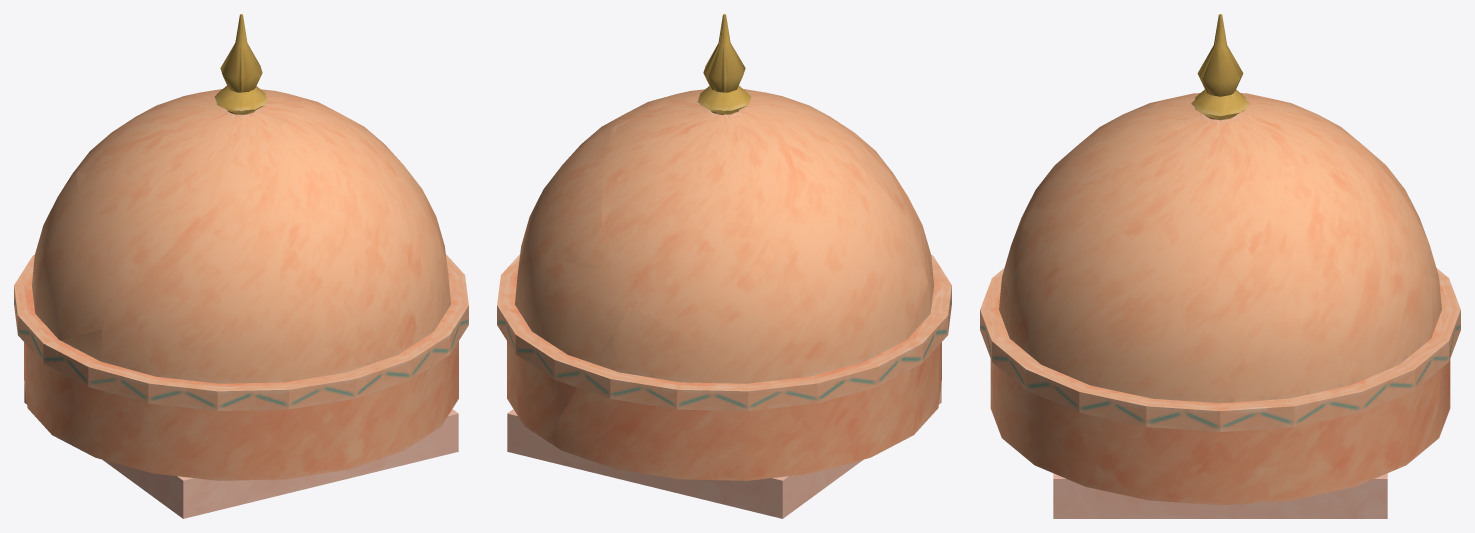
File: dome.bundle.fbx
3 renders of one model, left to right at view 1: azimuth 30°, elevation 25°; view 2: azimuth 150°, elevation 25°; view 3: azimuth 270°, elevation 25°, orthographic. The views are drawn at different scales.
Visible parts, largest first — view 1: dome, dome_s02, dome_s09, dome_s04, dome_s01, dome_s06, dome_s07, dome_low, dome_s03; view 2: dome, dome_s00, dome_s06, dome_s07, dome_s08, dome_s03, dome_s04, dome_s05, dome_low, dome_s02, dome_s09; view 3: dome, dome_s08, dome_s09, dome_s01, dome_low, dome_s05, dome_s06, dome_s00, dome_s02.
Boxes of the visible parts, bbox=[...] form: dome: bbox=[14, 14, 468, 518]; dome_s02: bbox=[119, 150, 362, 480]; dome_s09: bbox=[260, 104, 449, 435]; dome_s04: bbox=[49, 329, 242, 518]; dome_s01: bbox=[336, 270, 468, 469]; dome_s06: bbox=[69, 97, 306, 195]; dome_s07: bbox=[32, 172, 150, 348]; dome_low: bbox=[15, 14, 464, 389]; dome_s03: bbox=[22, 255, 54, 408]; dome: bbox=[497, 14, 951, 518]; dome_s00: bbox=[549, 308, 747, 505]; dome_s06: bbox=[602, 94, 857, 336]; dome_s07: bbox=[710, 165, 929, 370]; dome_s08: bbox=[502, 210, 631, 452]; dome_s03: bbox=[723, 343, 918, 518]; dome_s04: bbox=[806, 282, 951, 500]; dome_s05: bbox=[530, 131, 609, 266]; dome_low: bbox=[497, 15, 949, 389]; dome_s02: bbox=[776, 97, 951, 305]; dome_s09: bbox=[605, 90, 785, 132]; dome: bbox=[980, 14, 1460, 518]; dome_s08: bbox=[1248, 239, 1452, 518]; dome_s09: bbox=[981, 117, 1272, 398]; dome_s01: bbox=[990, 369, 1259, 518]; dome_low: bbox=[992, 15, 1448, 436]; dome_s05: bbox=[1261, 190, 1409, 320]; dome_s06: bbox=[1146, 99, 1427, 239]; dome_s00: bbox=[1427, 268, 1460, 447]; dome_s02: bbox=[980, 101, 1158, 319].
Bounding box in the file's own units: 11.5 × 11.45 × 11.5.
1 material, 1 textured.
